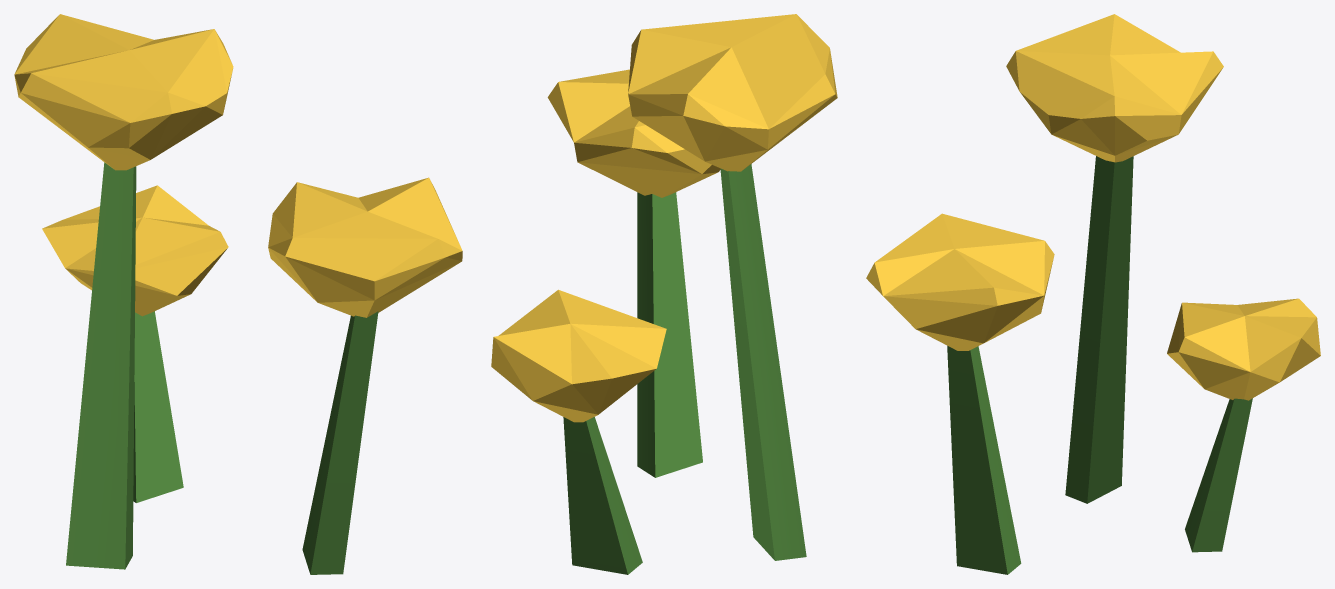
Rendered from Flowers_00.FBX.
3 views of the same model, side by side, from view 1: azimuth 30°, elevation 25°; view 2: azimuth 150°, elevation 25°; view 3: azimuth 270°, elevation 25° (orthographic). The views are drawn at different scales.
Visible parts, largest first — view 1: Flowers_00; view 2: Flowers_00; view 3: Flowers_00.
Boxes of the visible parts, x1,y1,x2,y2 form: Flowers_00: (14,14,462,574); Flowers_00: (491,14,837,574); Flowers_00: (866,14,1320,574).
Size of the model in its own units: 5.3 by 7.15 by 6.51.
